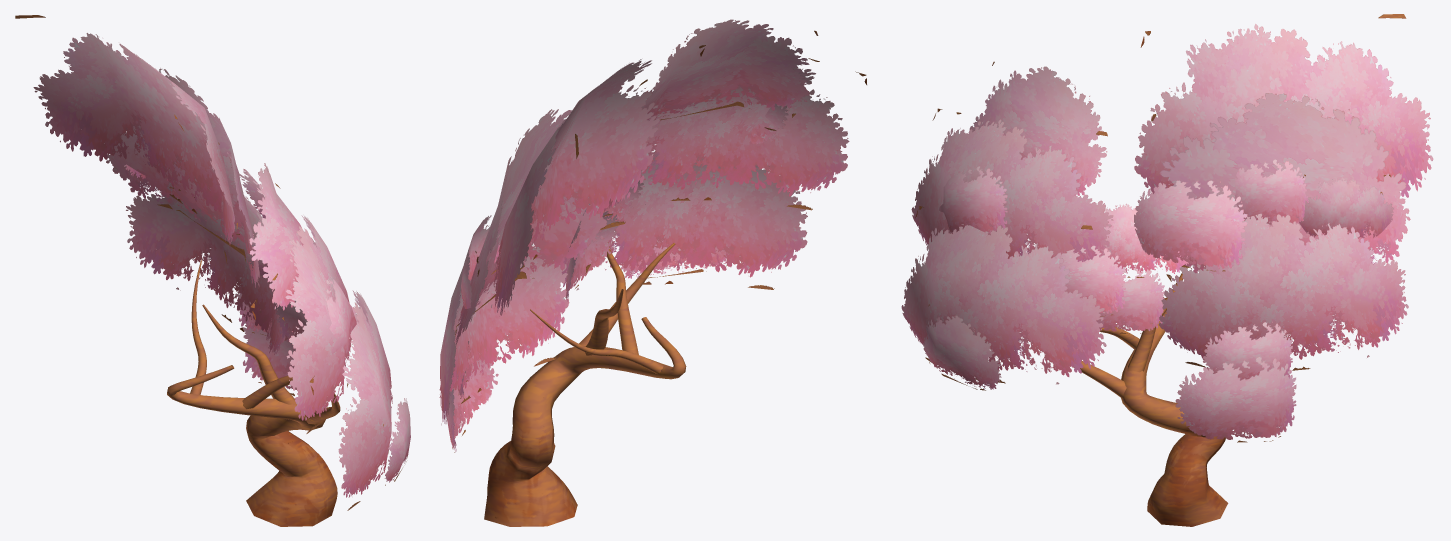
File: tree (3).fbx
The picture shows the model from 3 angles, left to right: view 1: azimuth 30°, elevation 25°; view 2: azimuth 150°, elevation 25°; view 3: azimuth 270°, elevation 25°; orthographic projection. The views are drawn at different scales.
Visible parts, largest first — view 1: Plane.071, STG_presetTreeBig Fantasy.001; view 2: Plane.071, STG_presetTreeBig Fantasy.001; view 3: Plane.071, STG_presetTreeBig Fantasy.001.
Part boxes in pixels (x1,y1,x2,y2): Plane.071: (15, 15, 410, 510); STG_presetTreeBig Fantasy.001: (167, 260, 340, 526); Plane.071: (439, 19, 866, 452); STG_presetTreeBig Fantasy.001: (484, 210, 686, 526); Plane.071: (901, 14, 1433, 442); STG_presetTreeBig Fantasy.001: (1073, 267, 1228, 526).
Bounding box in the file's own units: 350 × 711 × 791.
